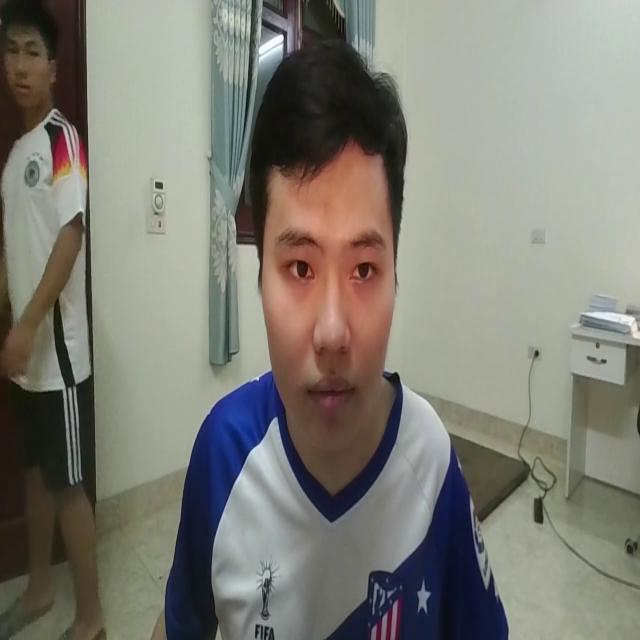extra_person: (1, 0, 111, 640)
student: (148, 33, 516, 640)
